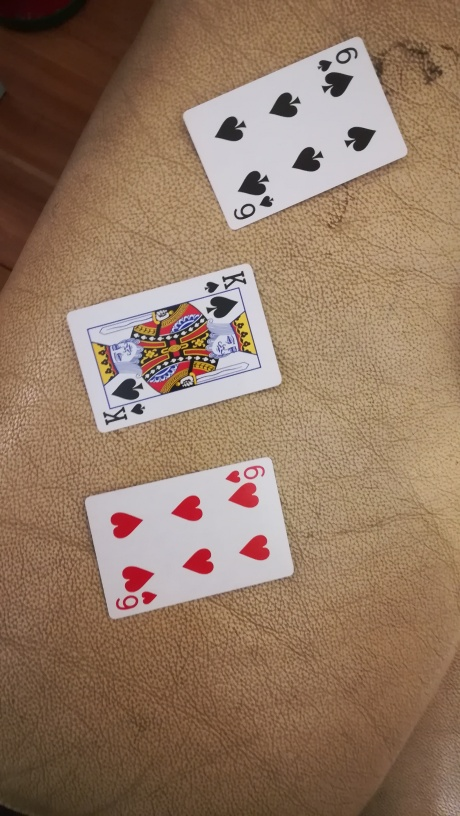ht 6: (178, 37, 411, 239)
ht k: (66, 263, 291, 444)
hx 6: (70, 456, 301, 622)
